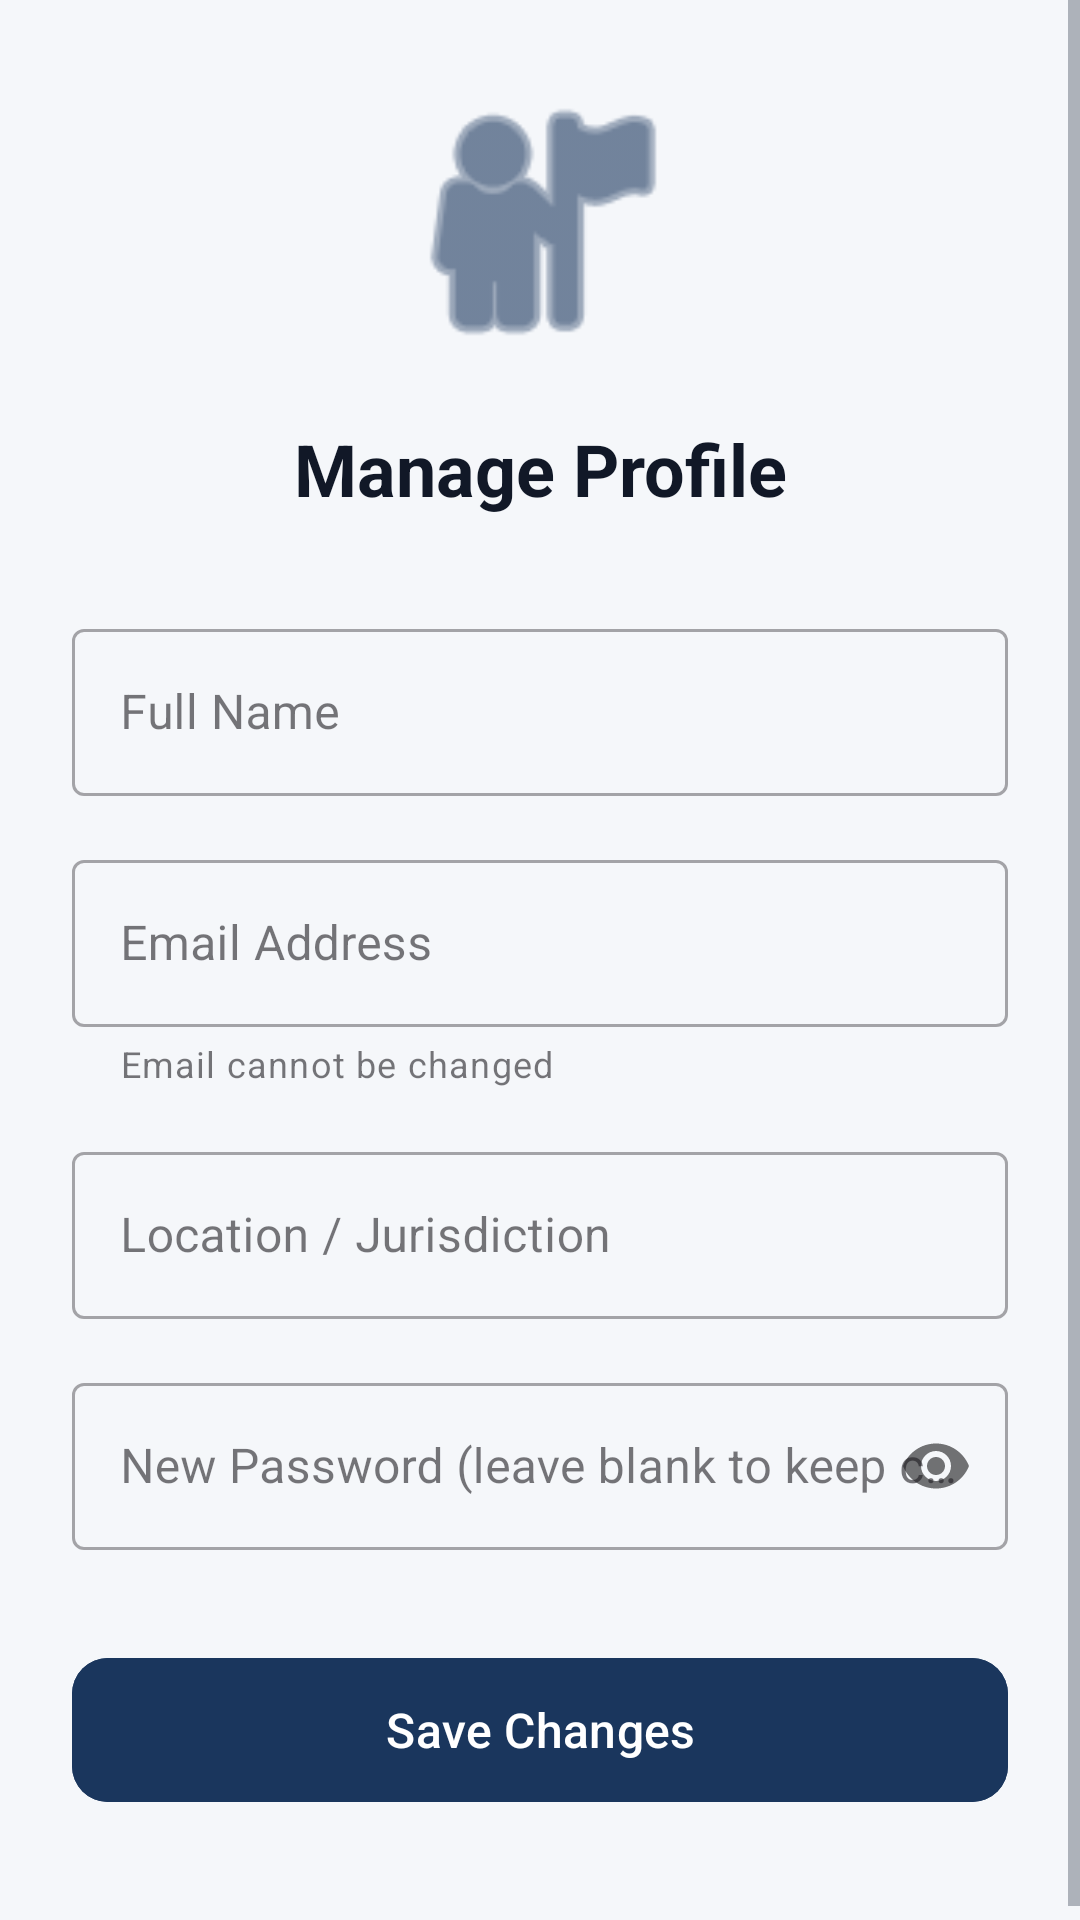

Where to tap for icons on this 1080*1920 app screen, as point (x, y):
myplaces: point (543, 222)
